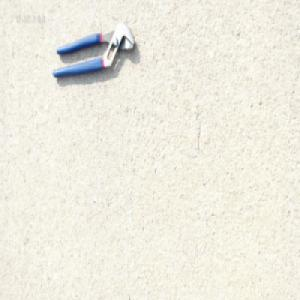Pliers: (51, 21, 135, 79)
